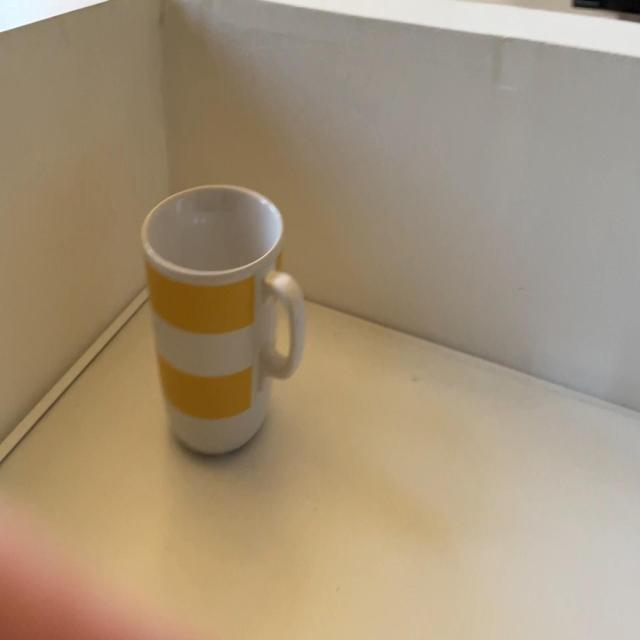cup: (140, 183, 310, 456)
